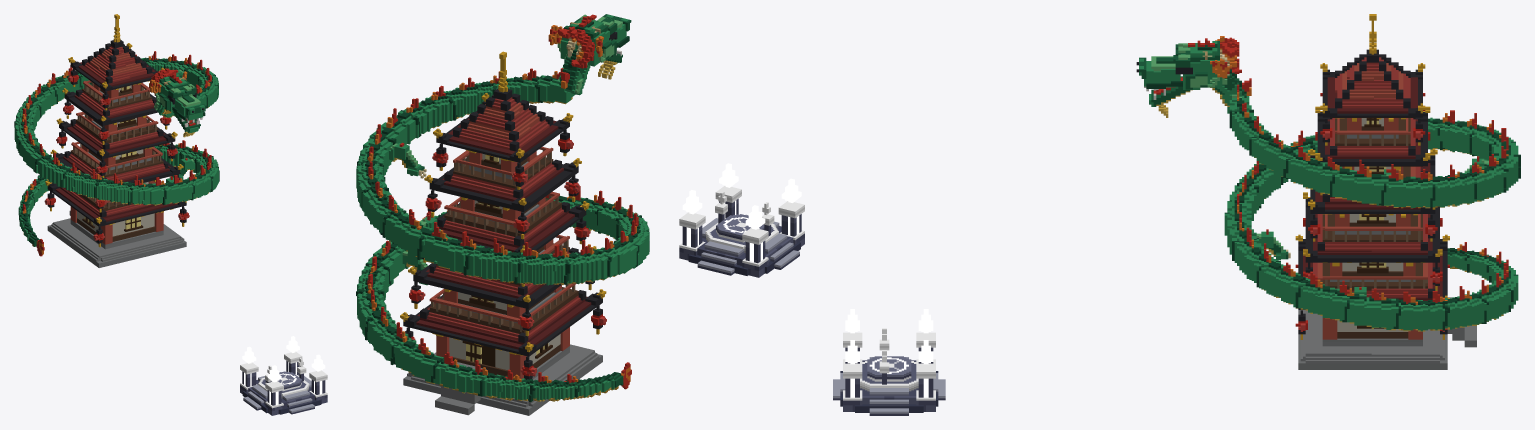
The model's file is VoxelKit.glb.
3 views of the same model, side by side, from view 1: azimuth 30°, elevation 25°; view 2: azimuth 150°, elevation 25°; view 3: azimuth 270°, elevation 25° (orthographic). The views are drawn at different scales.
Parts seen in each view (by area): view 1: SummitPagoda1, SummitDragon3, SummitPagoda4, SummitPagoda3, SummitPagoda2, SummitDragon2, AltarStone, SummitDragon5, SummitDragon4, AltarTrim, SummitDragon1, SummitPagoda5 (+1 smaller); view 2: SummitPagoda4, SummitDragon4, SummitPagoda1, SummitDragon3, SummitPagoda2, SummitDragon1, SummitPagoda3, AltarStone, SummitDragon2, SummitDragon5, AltarTrim, SummitPagoda5 (+1 smaller); view 3: SummitDragon2, SummitDragon4, SummitPagoda2, SummitPagoda4, SummitPagoda1, SummitDragon5, SummitDragon3, AltarStone, SummitPagoda3, SummitDragon1, AltarTrim, SummitPagoda5 (+1 smaller).
Boxes of the visible parts, x1=… form: SummitPagoda1: x1=44, y1=183, x2=189, y2=267; SummitDragon3: x1=14, y1=76, x2=202, y2=194; SummitPagoda4: x1=62, y1=43, x2=164, y2=125; SummitPagoda3: x1=56, y1=100, x2=177, y2=172; SummitPagoda2: x1=45, y1=142, x2=183, y2=222; SummitDragon2: x1=66, y1=140, x2=219, y2=205; AltarStone: x1=240, y1=361, x2=327, y2=415; SummitDragon5: x1=149, y1=68, x2=207, y2=129; SummitDragon4: x1=28, y1=51, x2=218, y2=137; AltarTrim: x1=240, y1=351, x2=327, y2=408; SummitDragon1: x1=18, y1=163, x2=175, y2=256; SummitPagoda5: x1=93, y1=14, x2=140, y2=69; SummitPagoda4: x1=424, y1=93, x2=581, y2=211; SummitDragon4: x1=356, y1=58, x2=621, y2=248; SummitPagoda1: x1=403, y1=293, x2=606, y2=415; SummitDragon3: x1=359, y1=190, x2=649, y2=285; SummitPagoda2: x1=400, y1=235, x2=606, y2=350; SummitDragon1: x1=357, y1=295, x2=631, y2=401; SummitPagoda3: x1=420, y1=175, x2=590, y2=252; AltarStone: x1=679, y1=199, x2=804, y2=277; SummitDragon2: x1=356, y1=196, x2=619, y2=357; SummitDragon5: x1=468, y1=14, x2=631, y2=90; AltarTrim: x1=679, y1=186, x2=804, y2=266; SummitPagoda5: x1=469, y1=51, x2=536, y2=131; SummitDragon2: x1=1224, y1=178, x2=1508, y2=330; SummitDragon4: x1=1149, y1=94, x2=1520, y2=208; SummitPagoda2: x1=1295, y1=192, x2=1449, y2=298; SummitPagoda4: x1=1315, y1=63, x2=1430, y2=166; SummitPagoda1: x1=1295, y1=244, x2=1476, y2=369; SummitDragon5: x1=1136, y1=36, x2=1278, y2=137; SummitDragon3: x1=1229, y1=110, x2=1520, y2=246; AltarStone: x1=833, y1=347, x2=945, y2=415; SummitPagoda3: x1=1308, y1=132, x2=1437, y2=235; SummitDragon1: x1=1401, y1=242, x2=1518, y2=331; AltarTrim: x1=843, y1=332, x2=935, y2=400; SummitPagoda5: x1=1347, y1=14, x2=1398, y2=89.
Bounding box in the file's own units: 48 × 68.15 × 112.
